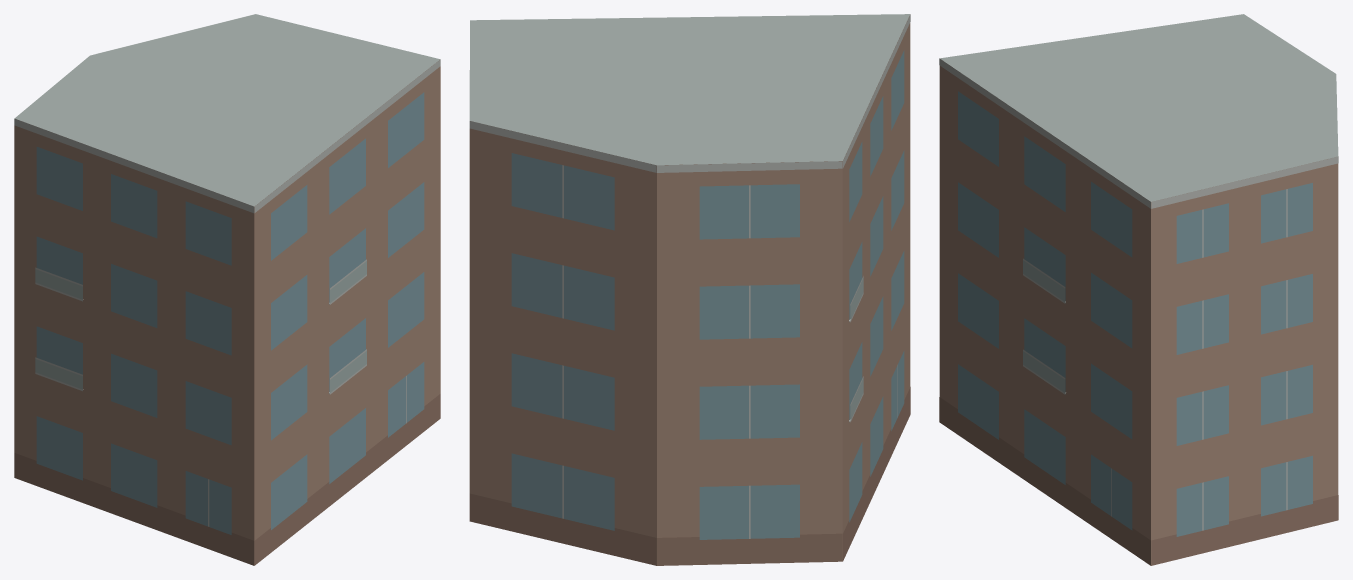
File: survey-upis-32785971.glb
3 views of the same model, side by side, from view 1: azimuth 30°, elevation 25°; view 2: azimuth 150°, elevation 25°; view 3: azimuth 270°, elevation 25° (orthographic). The views are drawn at different scales.
Visible parts, largest first — view 1: survey-upis-32785971.tmp; view 2: survey-upis-32785971.tmp; view 3: survey-upis-32785971.tmp.
Part boxes in pixels (left/top/right/bottom): survey-upis-32785971.tmp: left=14, top=14, right=440, bottom=565; survey-upis-32785971.tmp: left=469, top=14, right=910, bottom=565; survey-upis-32785971.tmp: left=939, top=14, right=1338, bottom=565.
Bounding box in the file's own units: 14.08 × 12.7 × 12.63.
